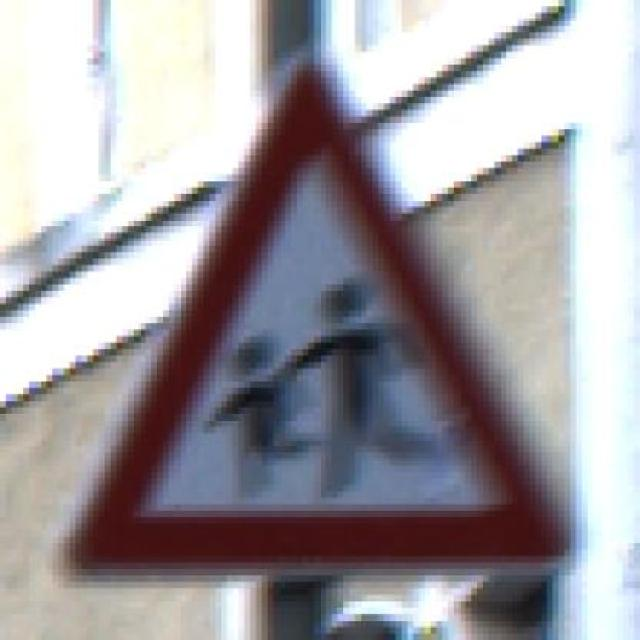Beware of children: (58, 58, 576, 576)
